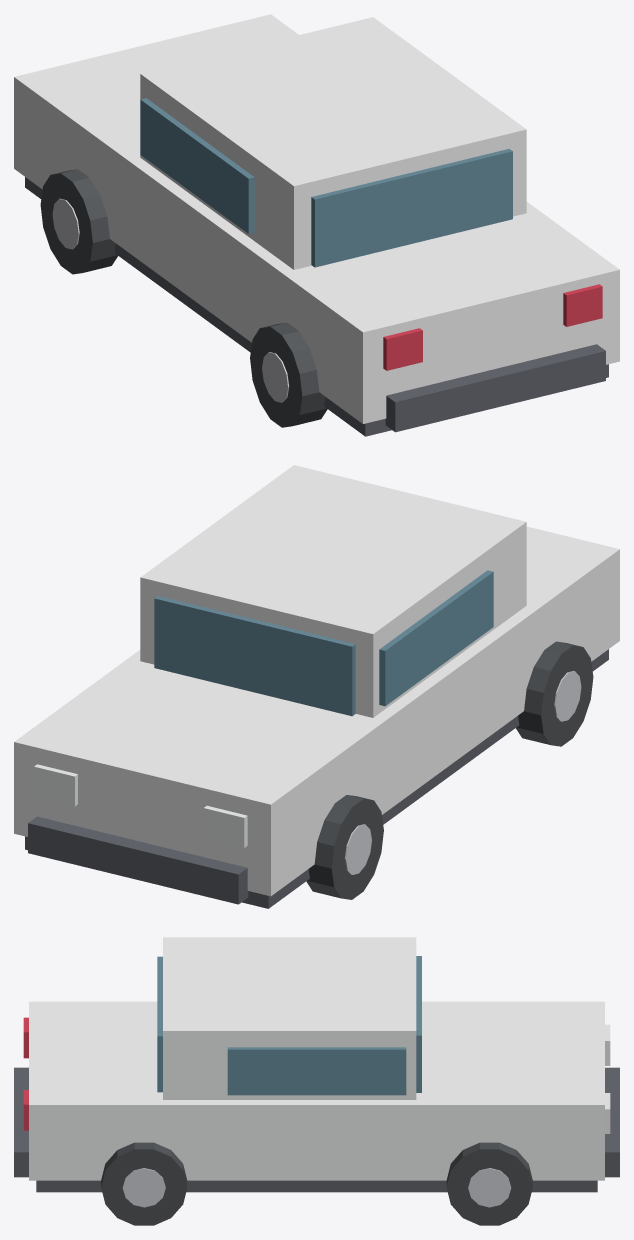
The model's file is gol.glb.
The picture shows the model from 3 angles, top to bottom: view 1: azimuth 30°, elevation 25°; view 2: azimuth 150°, elevation 25°; view 3: azimuth 270°, elevation 25°; orthographic projection. The views are drawn at different scales.
Visible parts, largest first — view 1: BODY_main, BODY_cabin, WINDOW_rear, BODY_bumper_rear, WINDOW_side_-1, WHEEL_-1_1.2, WHEEL_-1_-1.2, BODY_lower, LIGHT_rear_-1, LIGHT_rear_1, WHEEL_-1_-1.2_hub, WHEEL_-1_1.2_hub; view 2: BODY_main, BODY_cabin, WINDOW_front, BODY_bumper_front, WINDOW_side_-1, WHEEL_-1_1.2, WHEEL_-1_-1.2, BODY_lower, LIGHT_front_-1, LIGHT_front_1, WHEEL_-1_-1.2_hub, WHEEL_-1_1.2_hub; view 3: BODY_main, BODY_cabin, WINDOW_side_1, BODY_lower, WHEEL_1_-1.2, WHEEL_1_1.2, BODY_bumper_rear, BODY_bumper_front, WHEEL_1_-1.2_hub, WHEEL_1_1.2_hub, WINDOW_front, WINDOW_rear.
Part boxes in pixels (left/top/right/bottom): BODY_main: left=14, top=14, right=619, bottom=423; BODY_cabin: left=140, top=17, right=526, bottom=269; WINDOW_rear: left=311, top=149, right=512, bottom=267; BODY_bumper_rear: left=385, top=344, right=605, bottom=432; WINDOW_side_-1: left=140, top=98, right=254, bottom=233; WHEEL_-1_1.2: left=250, top=322, right=327, bottom=427; WHEEL_-1_-1.2: left=40, top=169, right=117, bottom=274; BODY_lower: left=25, top=177, right=608, bottom=436; LIGHT_rear_-1: left=383, top=328, right=422, bottom=370; LIGHT_rear_1: left=563, top=284, right=602, bottom=326; WHEEL_-1_-1.2_hub: left=52, top=198, right=79, bottom=249; WHEEL_-1_1.2_hub: left=262, top=352, right=289, bottom=402; BODY_main: left=14, top=526, right=619, bottom=896; BODY_cabin: left=140, top=465, right=526, bottom=717; WINDOW_front: left=154, top=596, right=355, bottom=716; BODY_bumper_front: left=28, top=816, right=248, bottom=904; WINDOW_side_-1: left=379, top=570, right=493, bottom=706; WHEEL_-1_1.2: left=516, top=641, right=593, bottom=746; WHEEL_-1_-1.2: left=306, top=795, right=383, bottom=899; BODY_lower: left=25, top=649, right=608, bottom=908; LIGHT_front_-1: left=203, top=805, right=247, bottom=847; LIGHT_front_1: left=34, top=764, right=77, bottom=806; WHEEL_-1_-1.2_hub: left=344, top=824, right=371, bottom=874; WHEEL_-1_1.2_hub: left=554, top=671, right=581, bottom=721; BODY_main: left=29, top=1001, right=604, bottom=1180; BODY_cabin: left=163, top=937, right=416, bottom=1099; WINDOW_side_1: left=227, top=1047, right=406, bottom=1095; BODY_lower: left=36, top=1180, right=597, bottom=1192; WHEEL_1_-1.2: left=446, top=1142, right=532, bottom=1225; WHEEL_1_1.2: left=101, top=1142, right=187, bottom=1225; BODY_bumper_rear: left=14, top=1067, right=28, bottom=1177; BODY_bumper_front: left=605, top=1067, right=619, bottom=1177; WHEEL_1_-1.2_hub: left=468, top=1168, right=511, bottom=1207; WHEEL_1_1.2_hub: left=122, top=1168, right=165, bottom=1207; WINDOW_front: left=416, top=956, right=421, bottom=1092; WINDOW_rear: left=157, top=956, right=162, bottom=1092.
Size of the model in its own units: 1.94 by 1.4 by 4.21.
